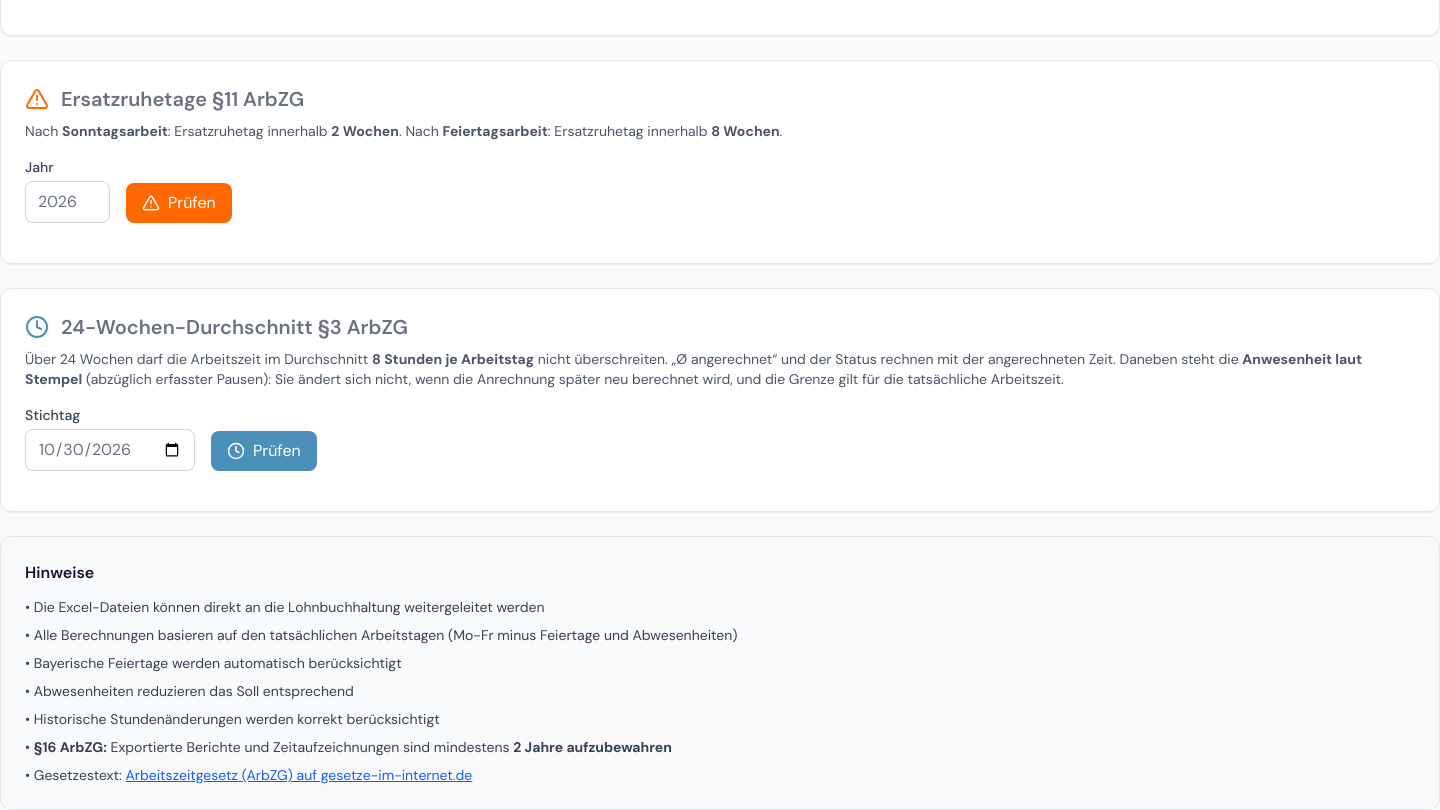
Test: <Reports /> 24-Wochen-Durchschnitt (Spec 8.1, P22) › KW ohne führende Null, über den Jahreswechsel mit dem jeweiligen Jahr (Fund 8)
(page scrolled)
Click the button with aria-label "24-Wochen-Durchschnitt prüfen".
click(264, 451)  # box x1=211 y1=431 x2=317 y2=471
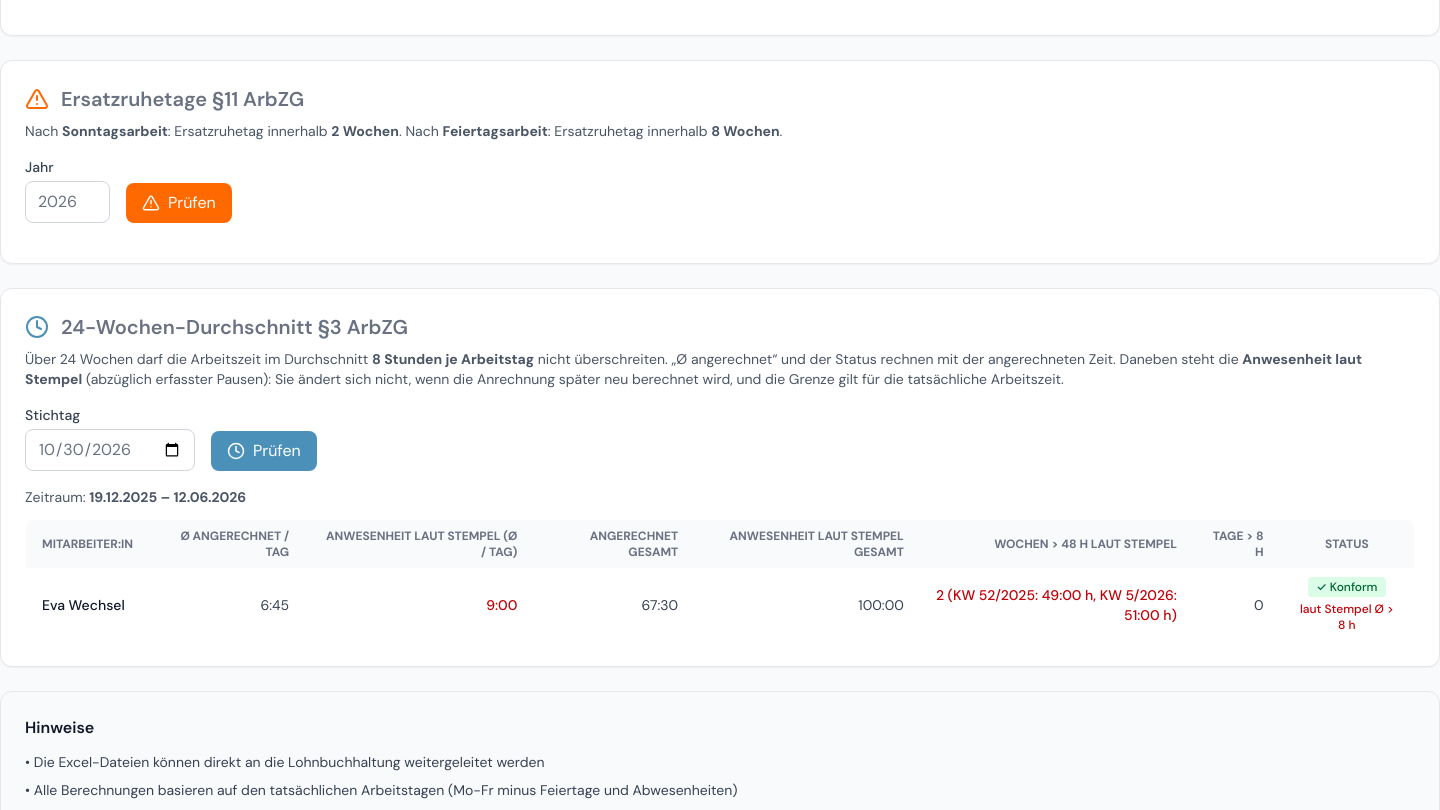
Expected: the text "2 (KW 52/2025: 49:00 h, KW 5/2026: 51:00 h)" is shown, x1=920 y1=568 x2=1193 y2=642
